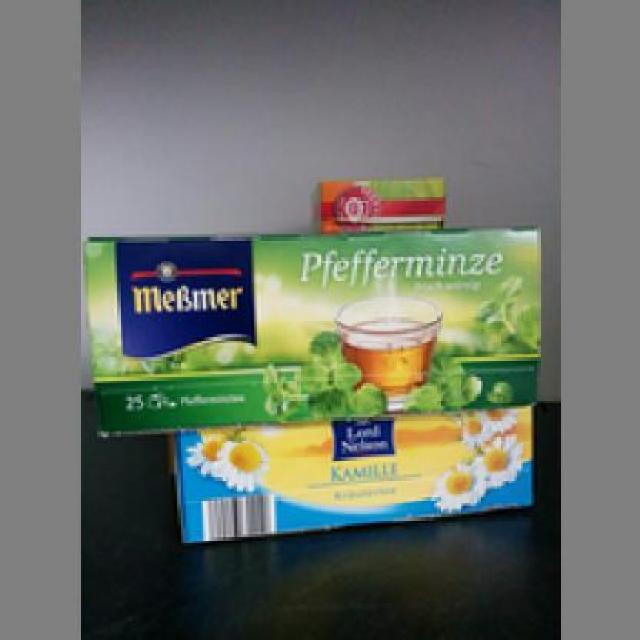Tea: (86, 226, 546, 428), (162, 403, 538, 543)
